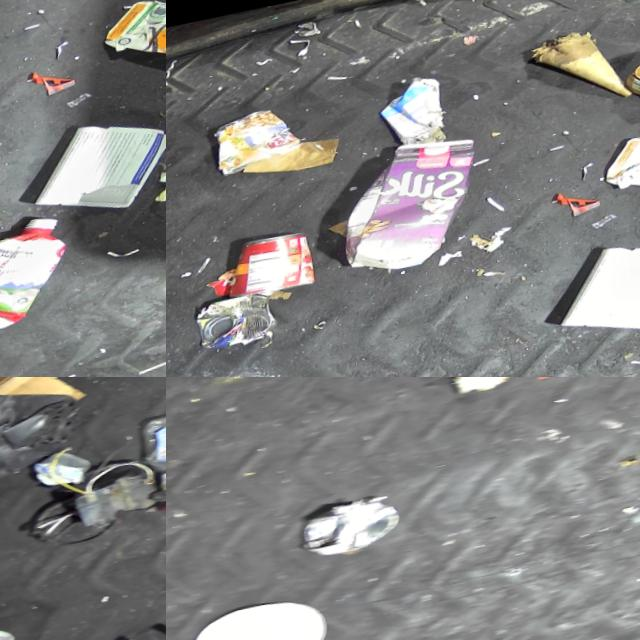can: (302, 492, 414, 564), (226, 228, 330, 303), (211, 102, 310, 179), (196, 288, 291, 356), (74, 456, 166, 503), (32, 444, 104, 494)
non_white_jug: (328, 132, 498, 282), (603, 112, 640, 206)
